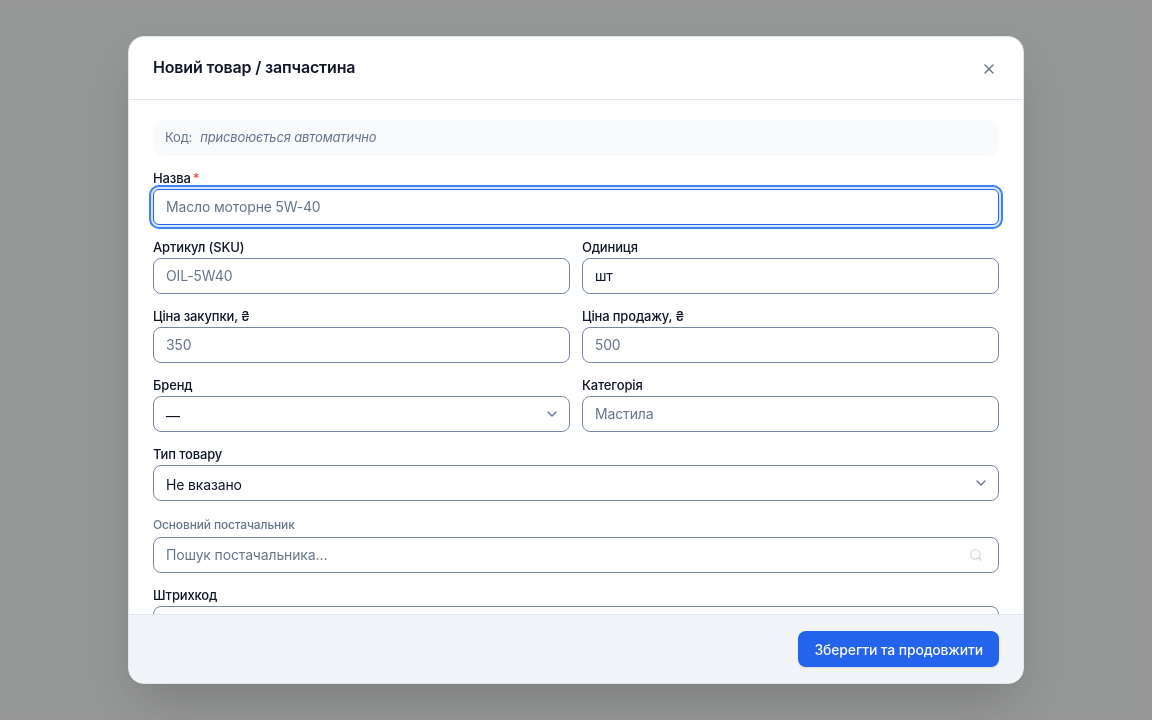
Test case: GoodEditModal — валідація zod + react-hook-form › порожня назва → inline-помилка українською, POST не йде
Click the button "Зберегти та продовжити" at (899,649), box [798,631,999,667]
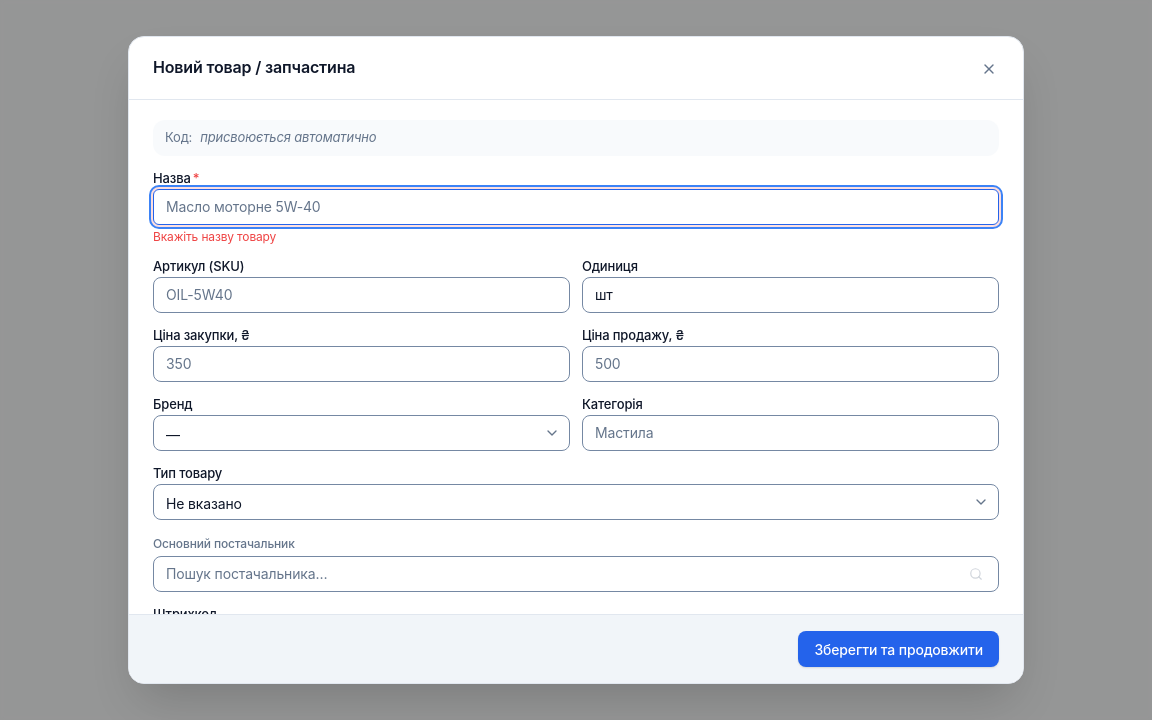
Check: the text "Вкажіть назву товару" is shown, box [153,228,276,244]
